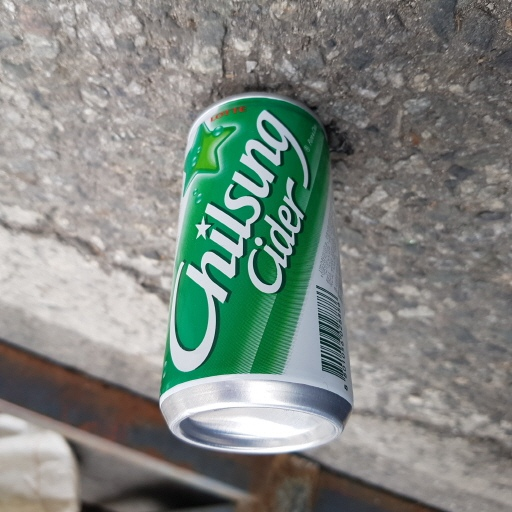Metal_0: (156, 88, 355, 451)
